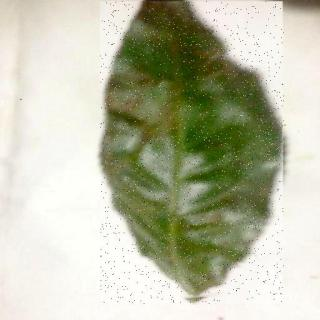Red Leaf Spot: (102, 3, 286, 305)
